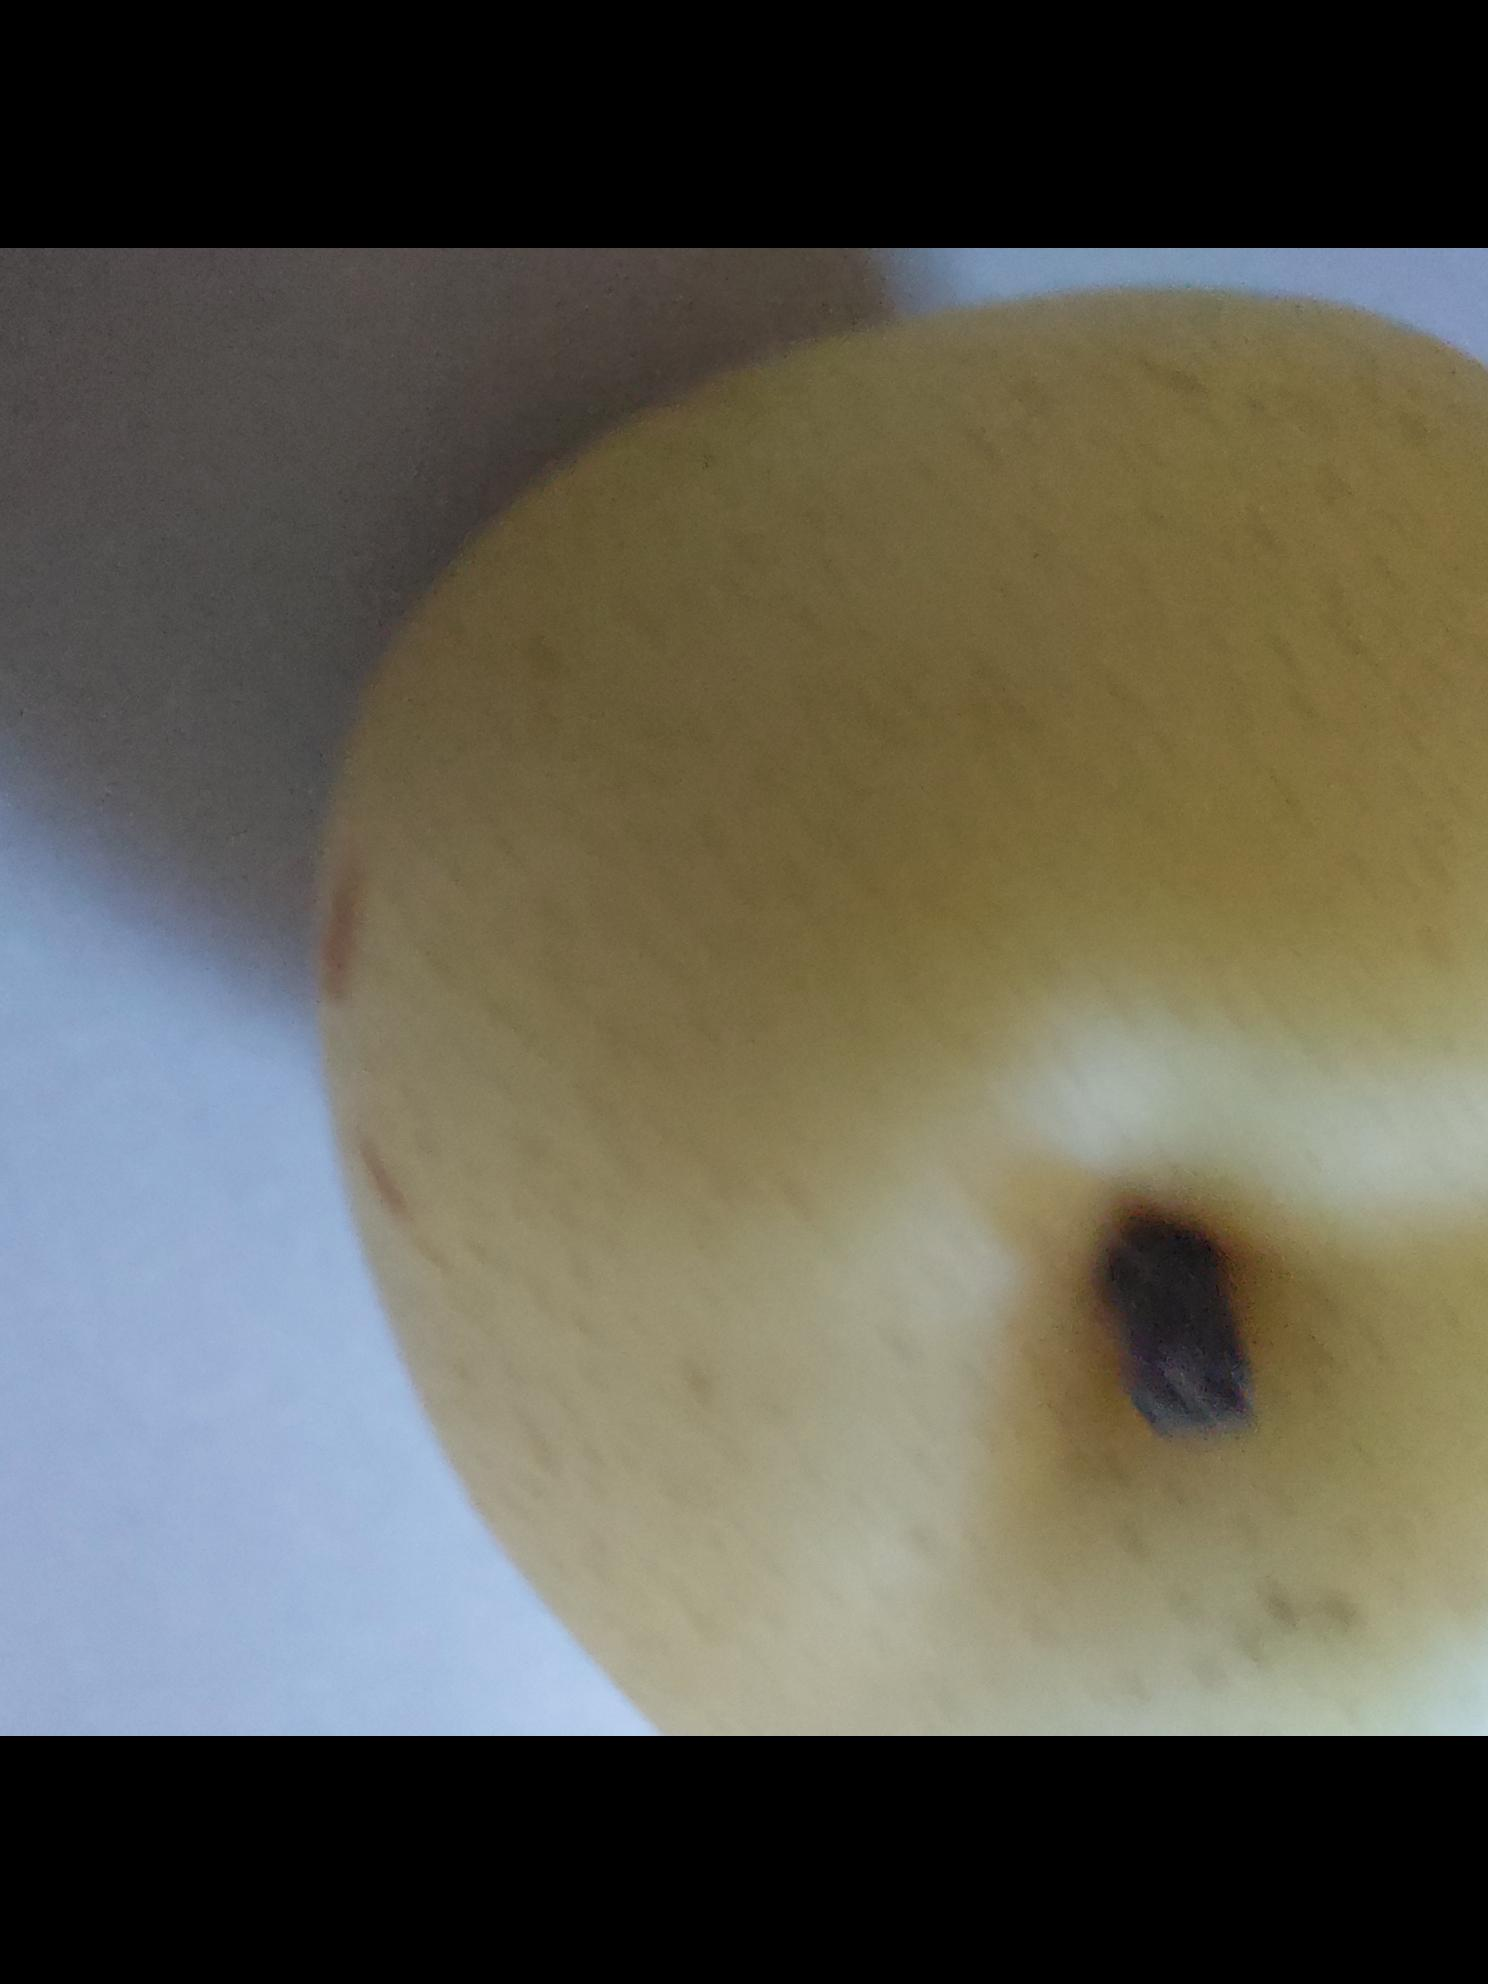Good Pear: (261, 298, 1488, 1736)
